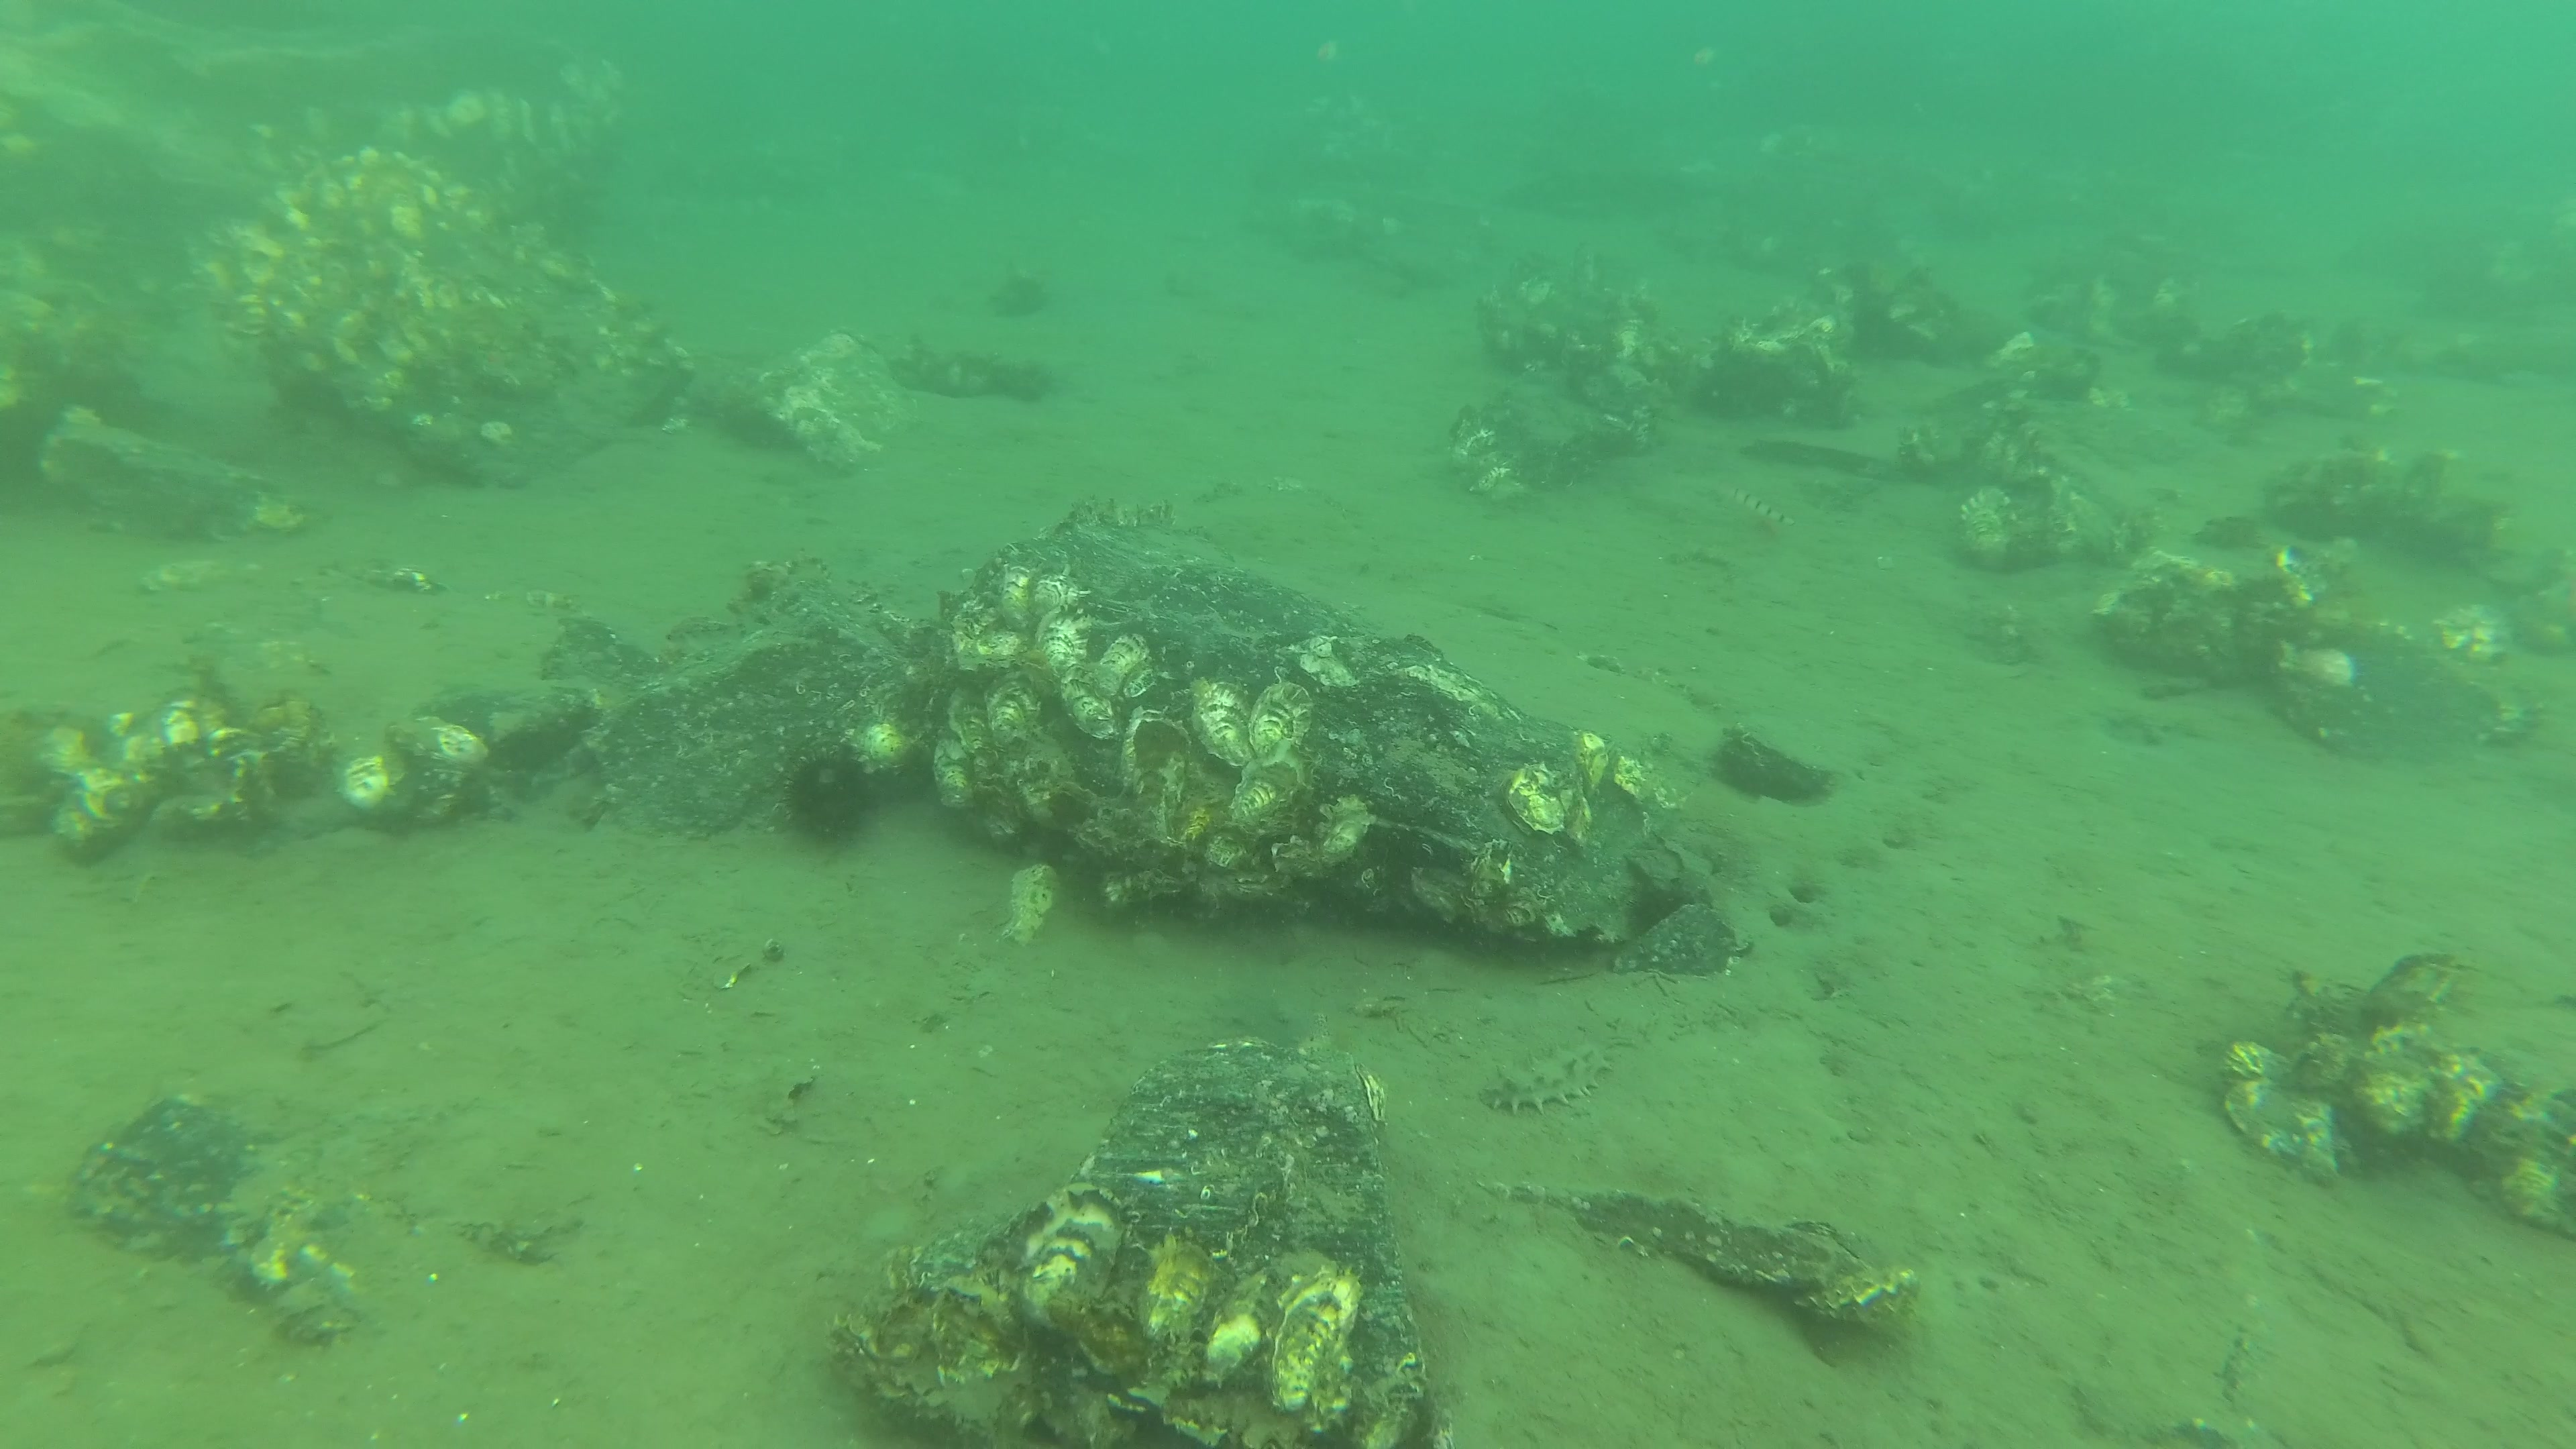echinus: (773, 743, 885, 844)
holothurian: (1477, 1033, 1617, 1120)
